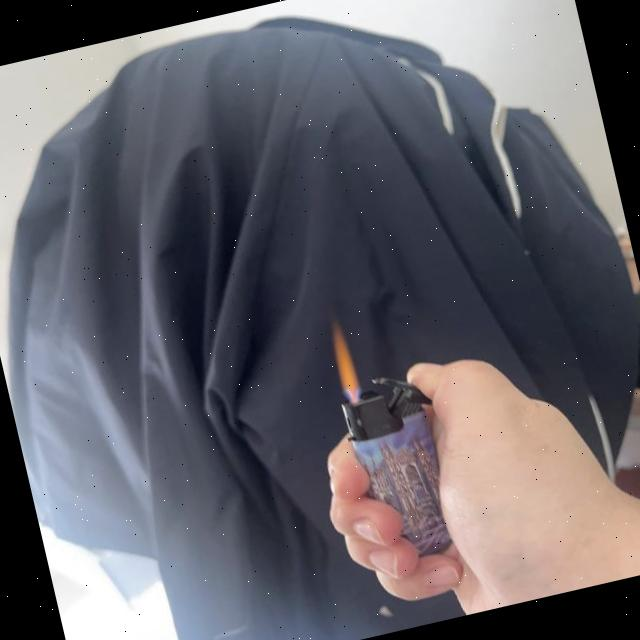fire: (326, 320, 364, 404)
